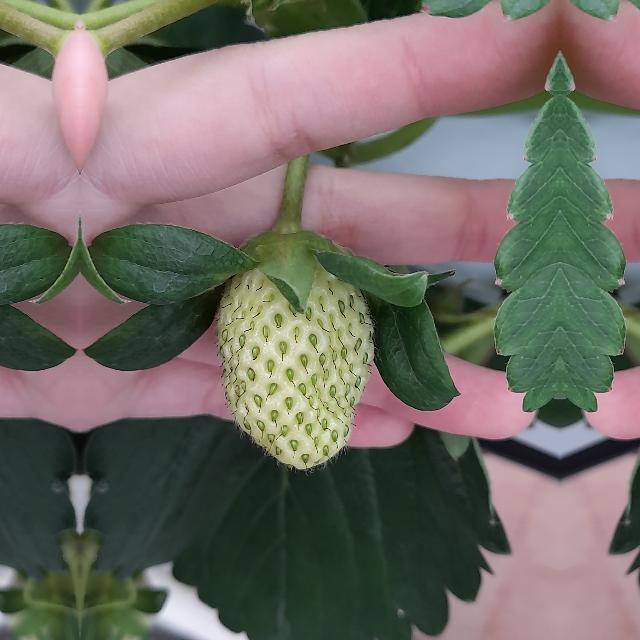Health_25: (217, 264, 373, 470)
